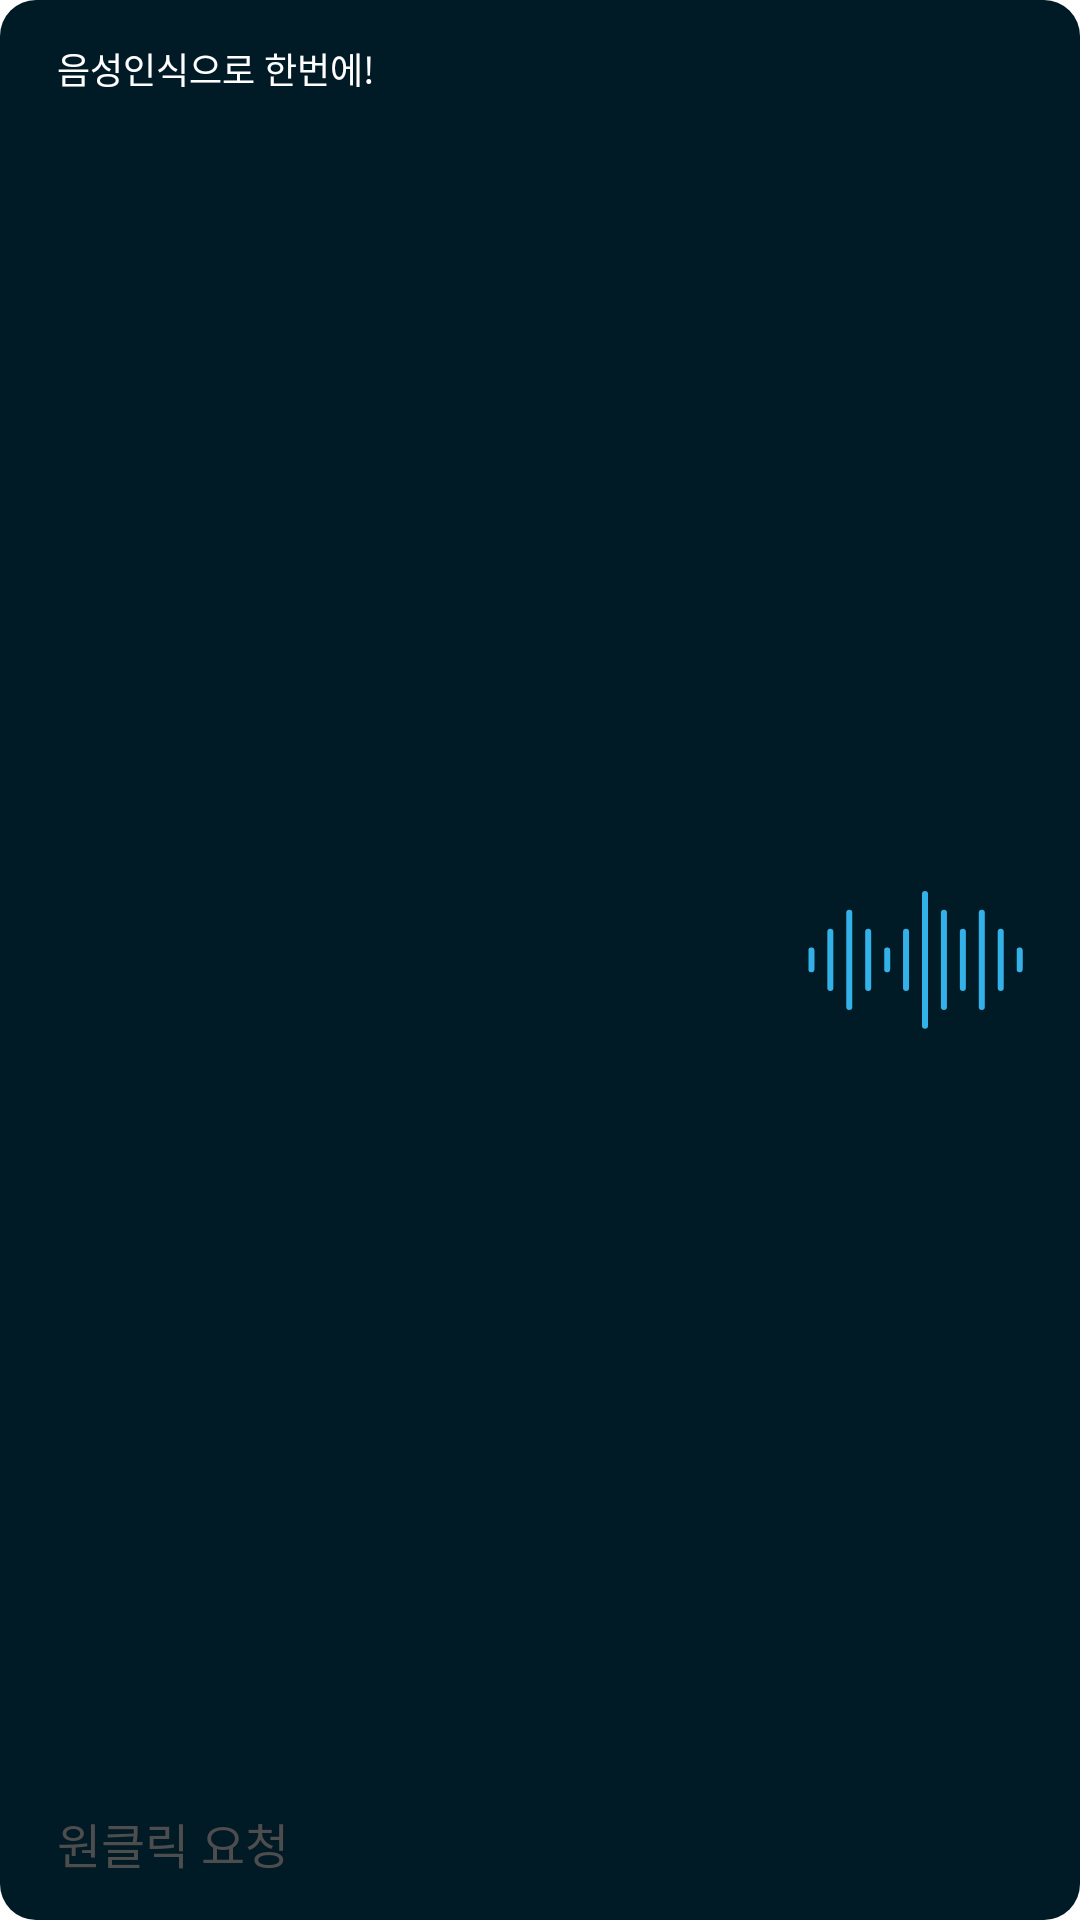

Named icons in this screenshot (1080w x 1920h) and their centers, (x,y):
voice: (915,960)
